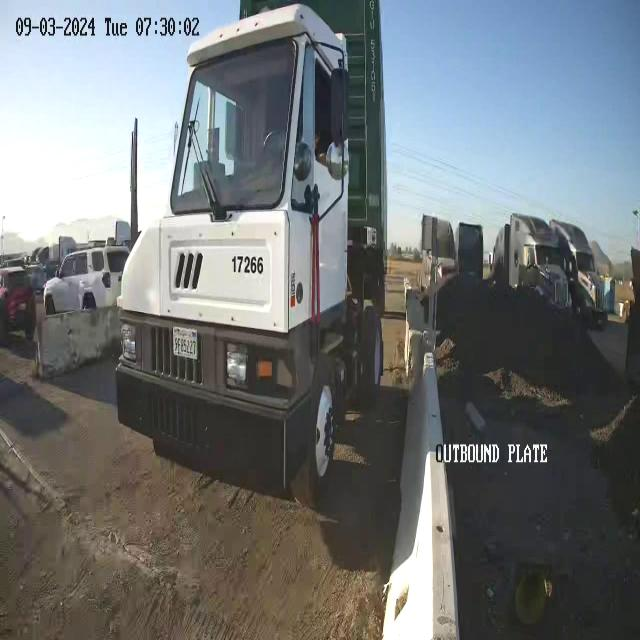CONTAINER: (232, 0, 388, 340)
